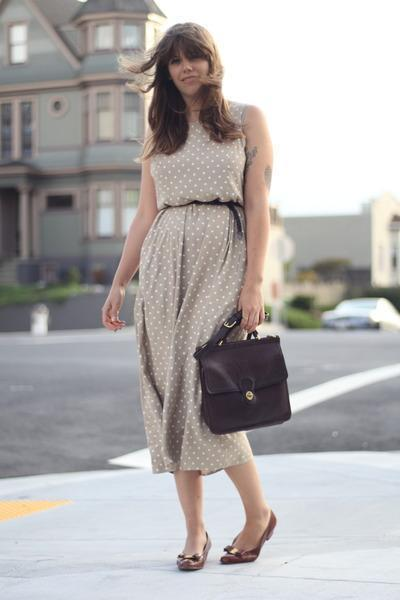bag: (193, 305, 290, 434)
dress: (128, 84, 248, 475)
shoe: (177, 546, 251, 572)
